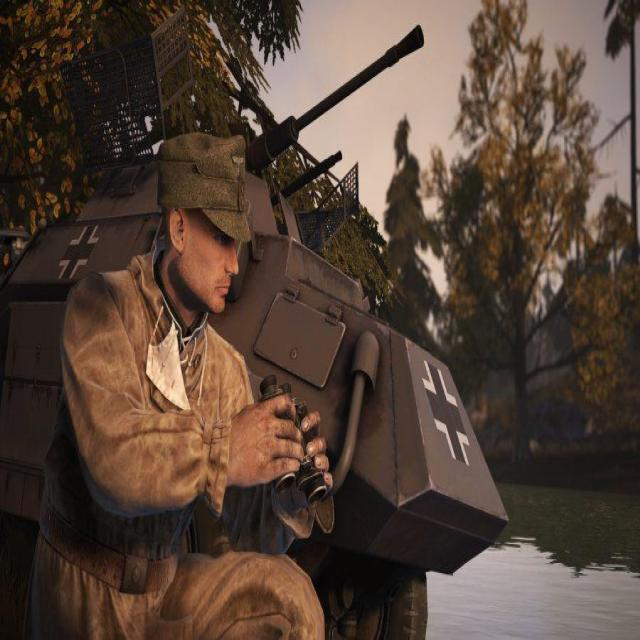Tanks: (17, 23, 497, 618)
